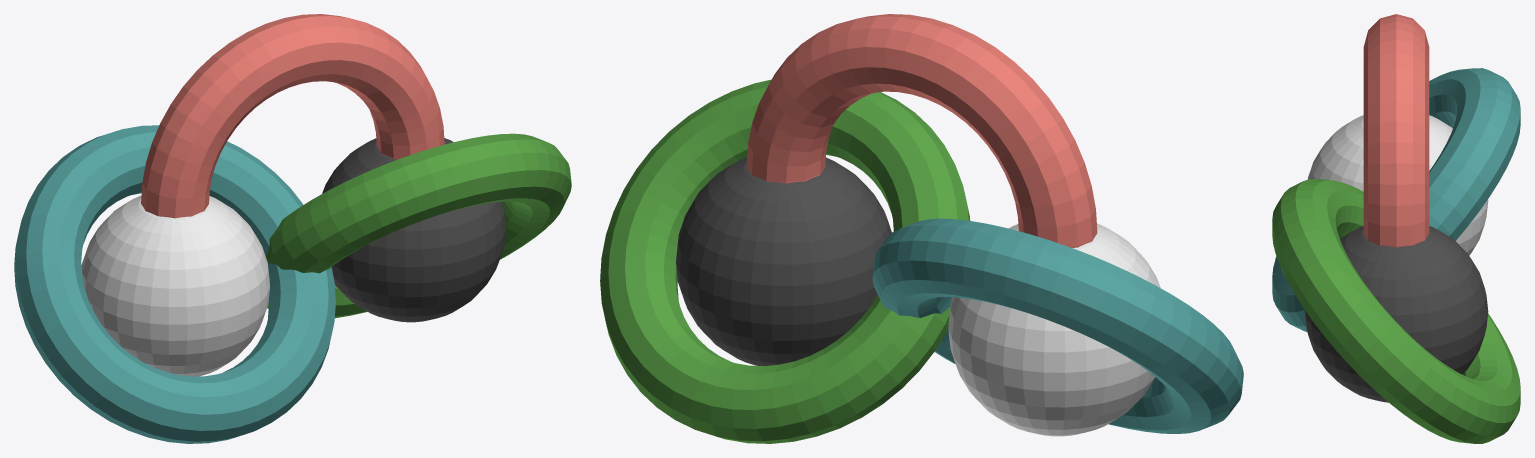
File: Mystio Berry.fbx
3 views of the same model, side by side, from view 1: azimuth 30°, elevation 25°; view 2: azimuth 150°, elevation 25°; view 3: azimuth 270°, elevation 25° (orthographic). The views are drawn at different scales.
Visible parts, largest first — view 1: Torus.002; view 2: Torus.002; view 3: Torus.002.
Part boxes in pixels (bbox=[...]): Torus.002: bbox=[14, 14, 571, 443]; Torus.002: bbox=[600, 14, 1243, 443]; Torus.002: bbox=[1272, 14, 1520, 443].
Bounding box in the file's own units: 450 × 286 × 190.
